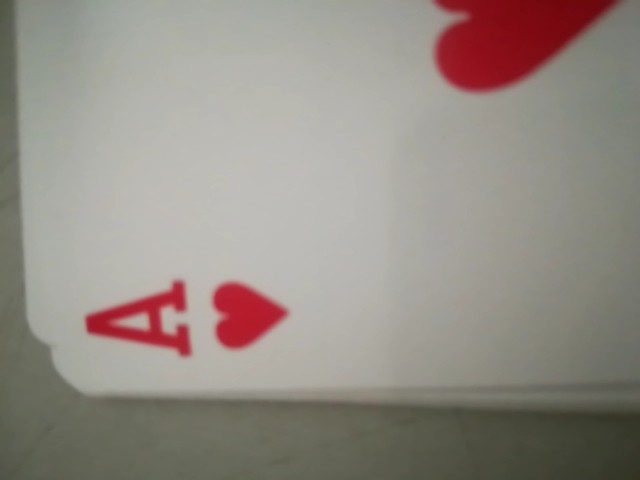hx a: (81, 232, 303, 384)
